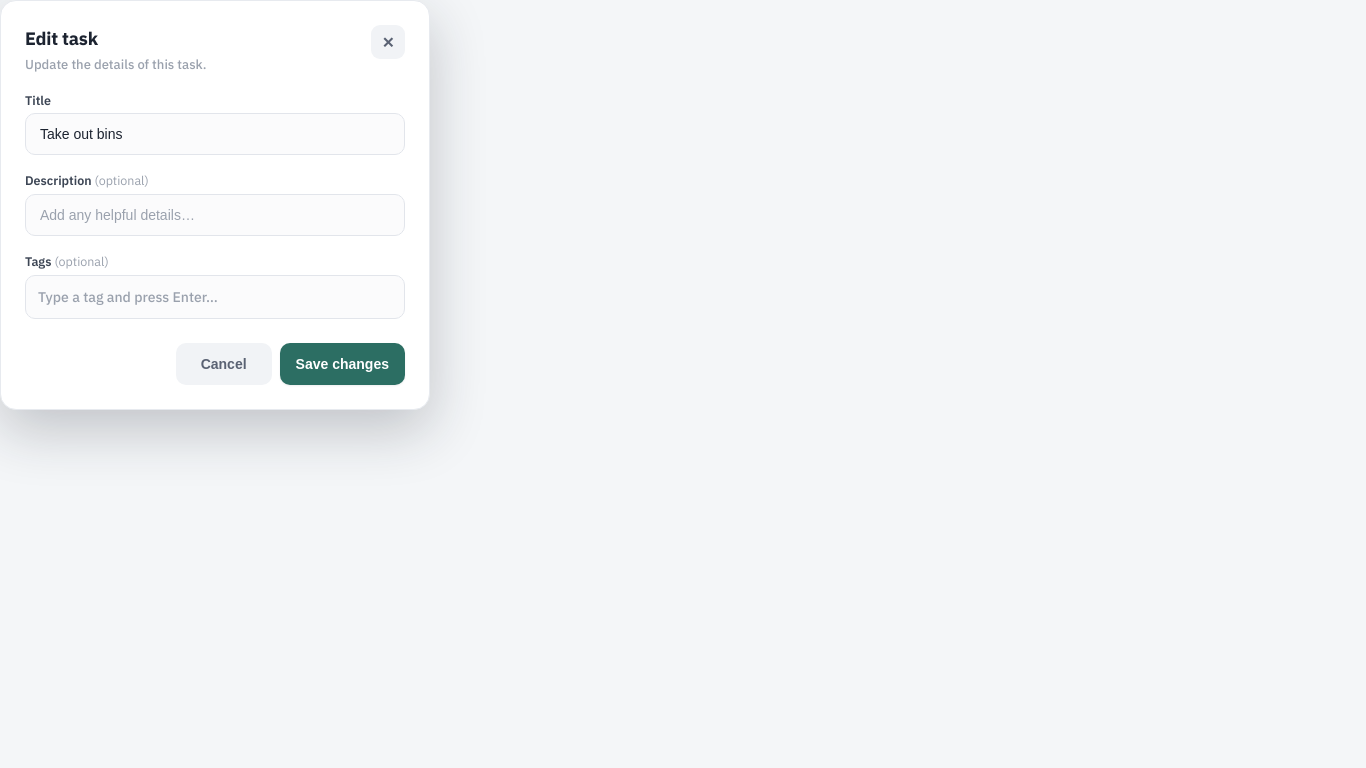
Test: TaskDetailComponent › maps a 400 and keeps the dialog open
This screenshot has width=1366, height=768.
Click the submit button: (342, 364) [280, 343, 405, 385]
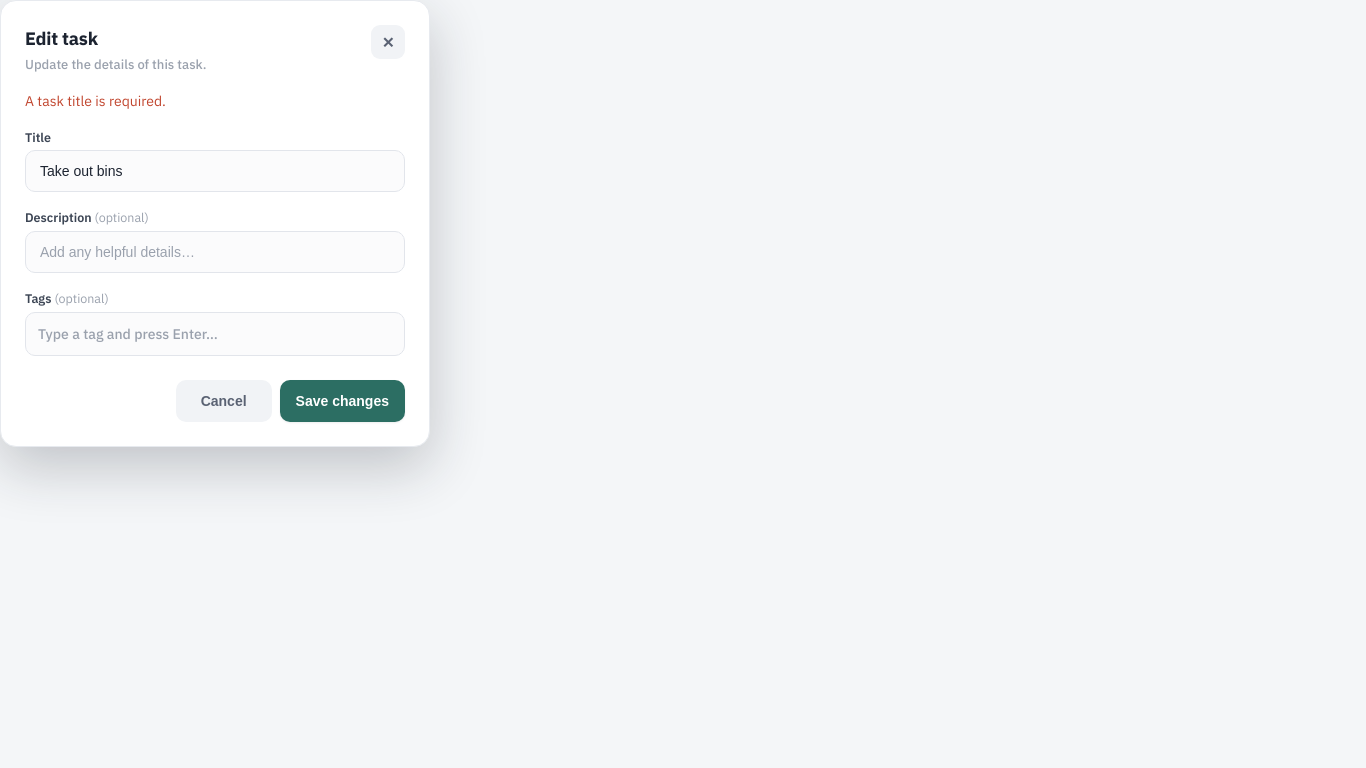
Now the text "A task title is required." is shown, box [25, 92, 166, 110]
